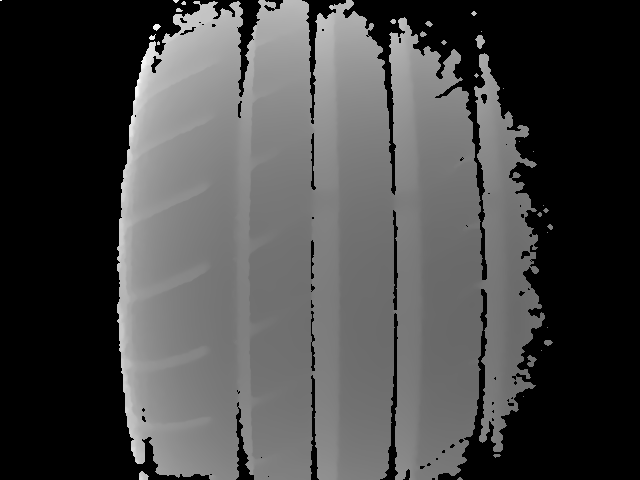high: (343, 242, 365, 262)
low: (319, 242, 336, 259)
